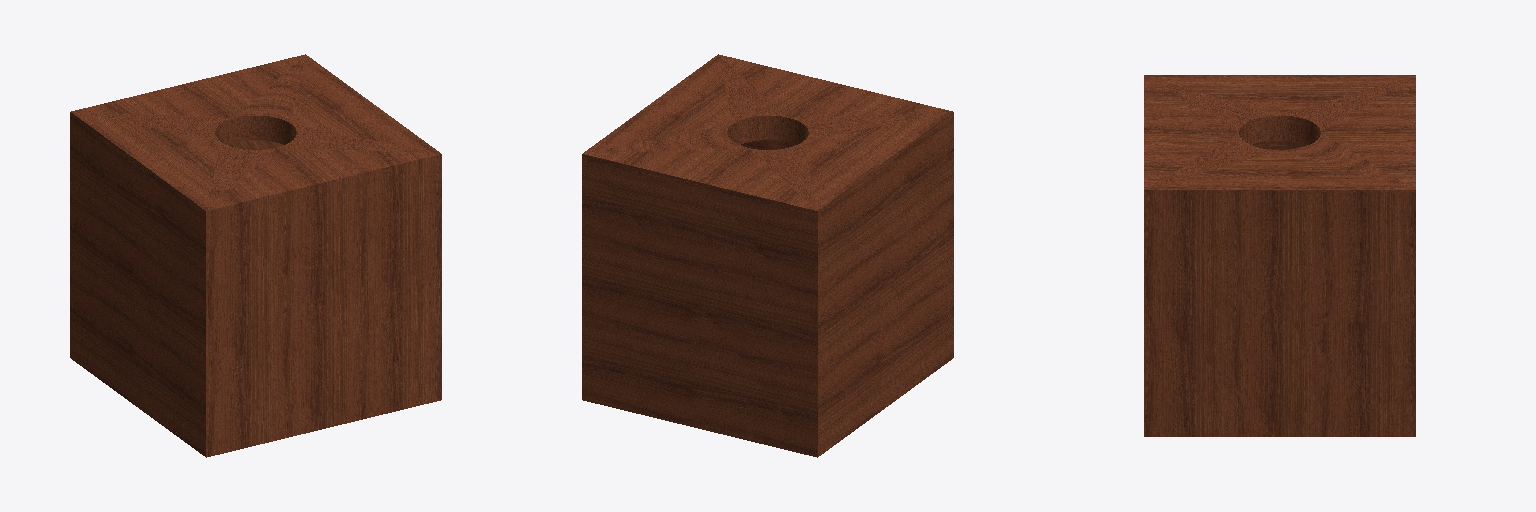
3 renders of one model, left to right at view 1: azimuth 30°, elevation 25°; view 2: azimuth 150°, elevation 25°; view 3: azimuth 270°, elevation 25°, orthographic.
Visible parts, largest first — view 1: Board-Easy.002; view 2: Board-Easy.002; view 3: Board-Easy.002.
Boxes of the visible parts, x1=… form: Board-Easy.002: x1=70, y1=54, x2=441, y2=457; Board-Easy.002: x1=582, y1=54, x2=953, y2=457; Board-Easy.002: x1=1144, y1=75, x2=1415, y2=436.
Bounding box in the file's own units: 0.2 × 0.2 × 0.2.
Materials: 1 (1 with a texture image).